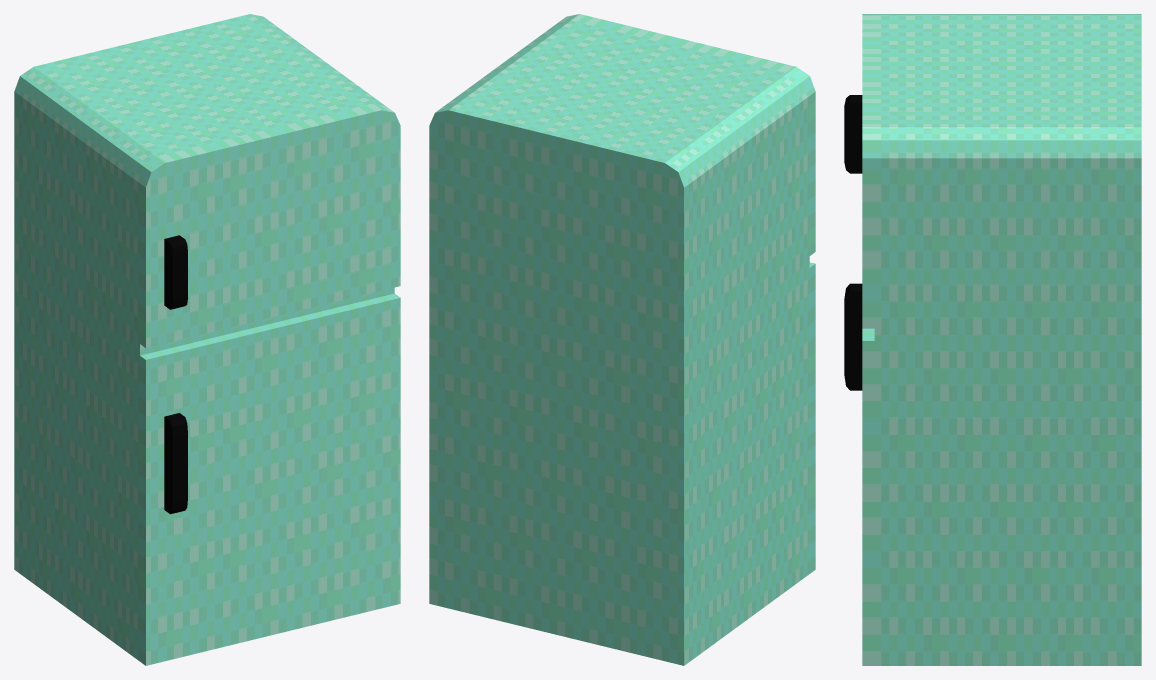
The model's file is Geladeira.glb.
3 views of the same model, side by side, from view 1: azimuth 30°, elevation 25°; view 2: azimuth 150°, elevation 25°; view 3: azimuth 270°, elevation 25° (orthographic). The views are drawn at different scales.
Parts seen in each view (by area): view 1: geladeira, handle2, handle1; view 2: geladeira; view 3: geladeira, handle2, handle1.
Part boxes in pixels (bbox=[...]): geladeira: bbox=[14, 14, 400, 665]; handle2: bbox=[164, 413, 187, 514]; handle1: bbox=[164, 235, 187, 309]; geladeira: bbox=[429, 14, 815, 665]; geladeira: bbox=[862, 14, 1141, 665]; handle2: bbox=[844, 283, 862, 390]; handle1: bbox=[844, 95, 862, 173].
Bounding box in the file's own units: 2.34 × 4.37 × 2.23.
2 materials, 2 textured.
